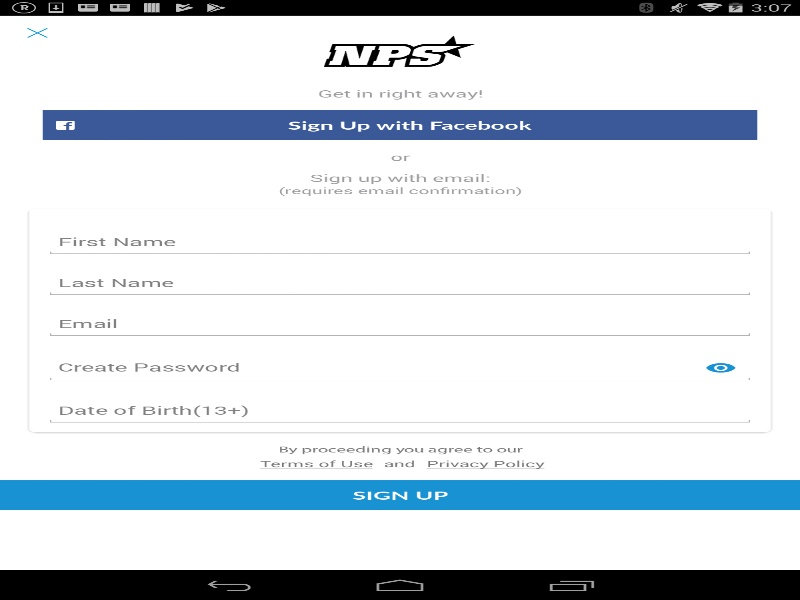Button: (0, 480, 800, 510), (42, 110, 757, 140), (686, 351, 755, 384)
Input: (44, 352, 755, 382), (44, 228, 755, 256), (44, 269, 755, 297), (44, 310, 755, 338), (44, 397, 755, 425)
